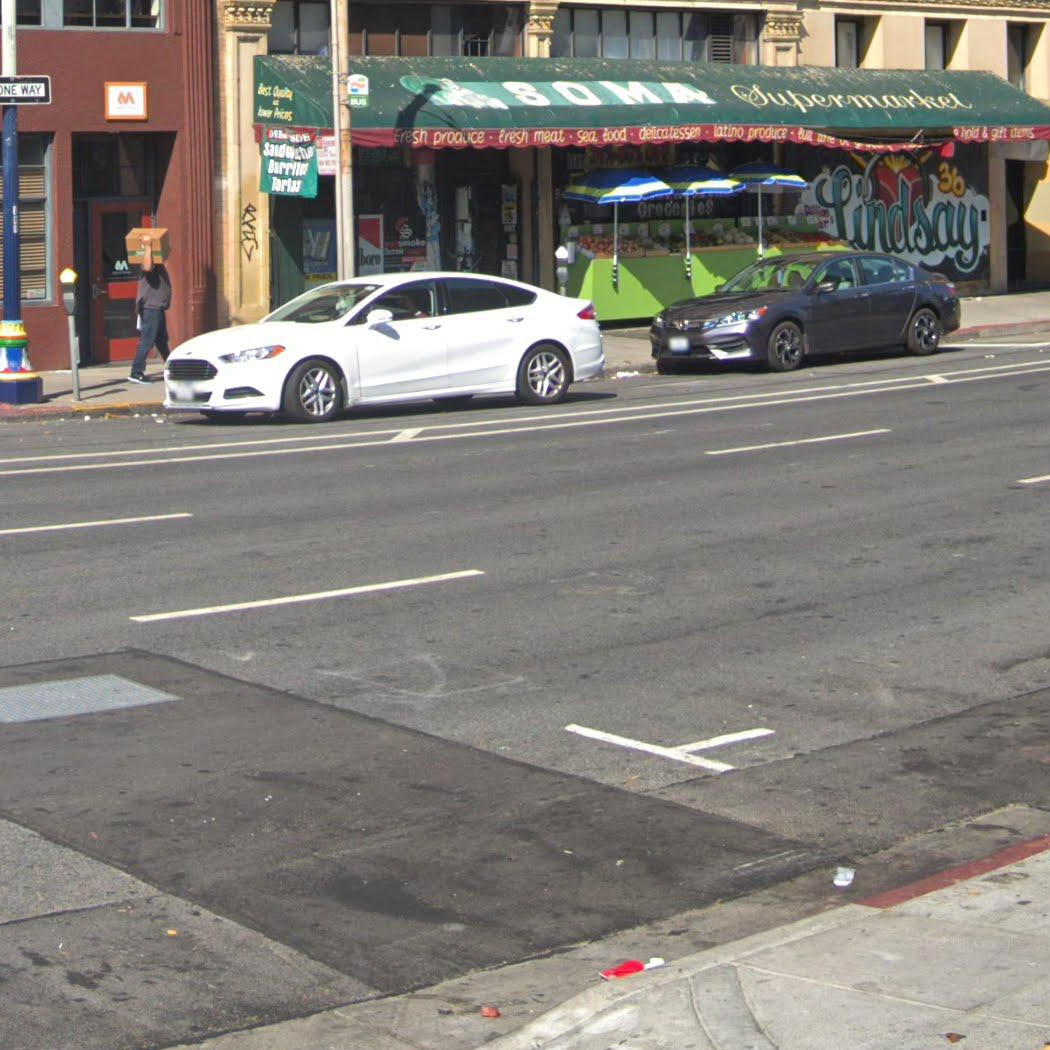No Parking: (314, 134, 339, 176)
